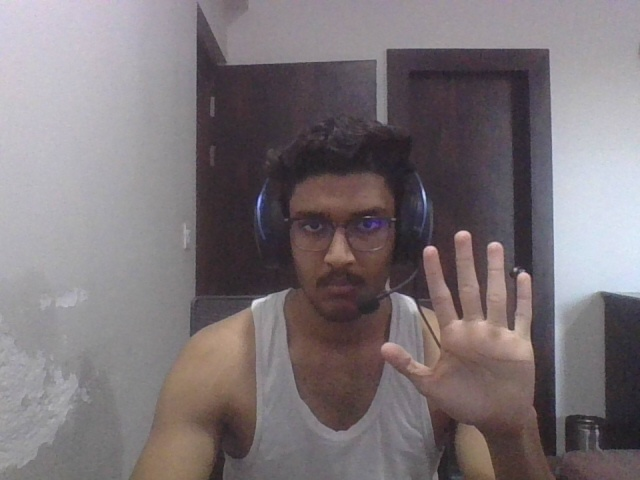Hello: (370, 222, 559, 425)
